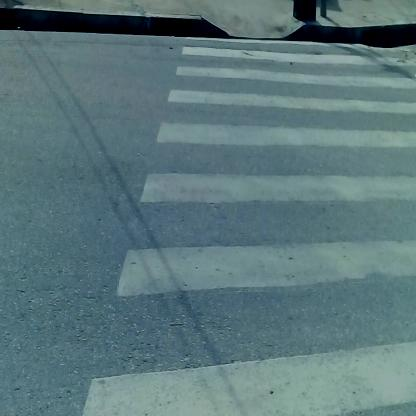crosswalk: (88, 48, 416, 416)
sidewalk: (5, 1, 416, 59)
